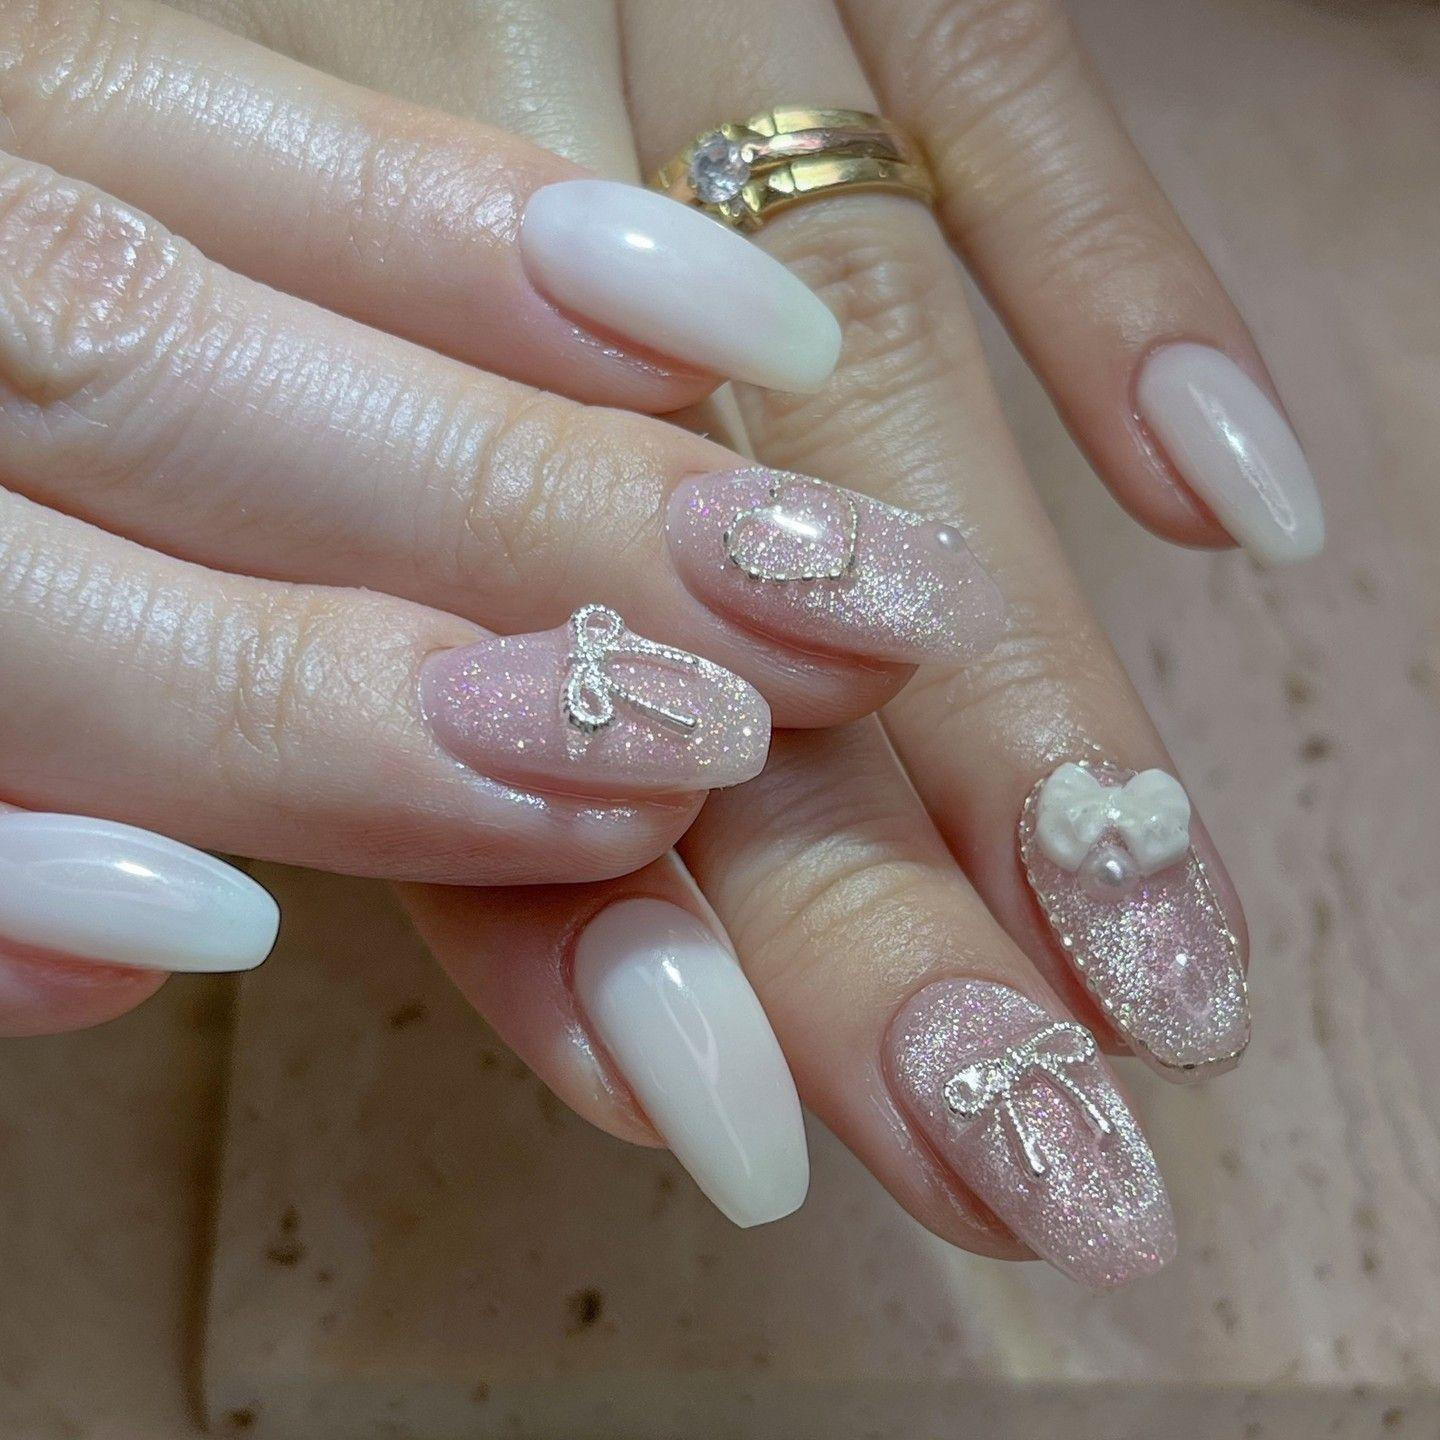nail: (877, 972, 1179, 1293), (564, 893, 812, 1229), (1015, 757, 1252, 1070), (662, 462, 1011, 668), (515, 176, 843, 395), (415, 602, 772, 799), (0, 800, 280, 976), (1127, 335, 1327, 567)
